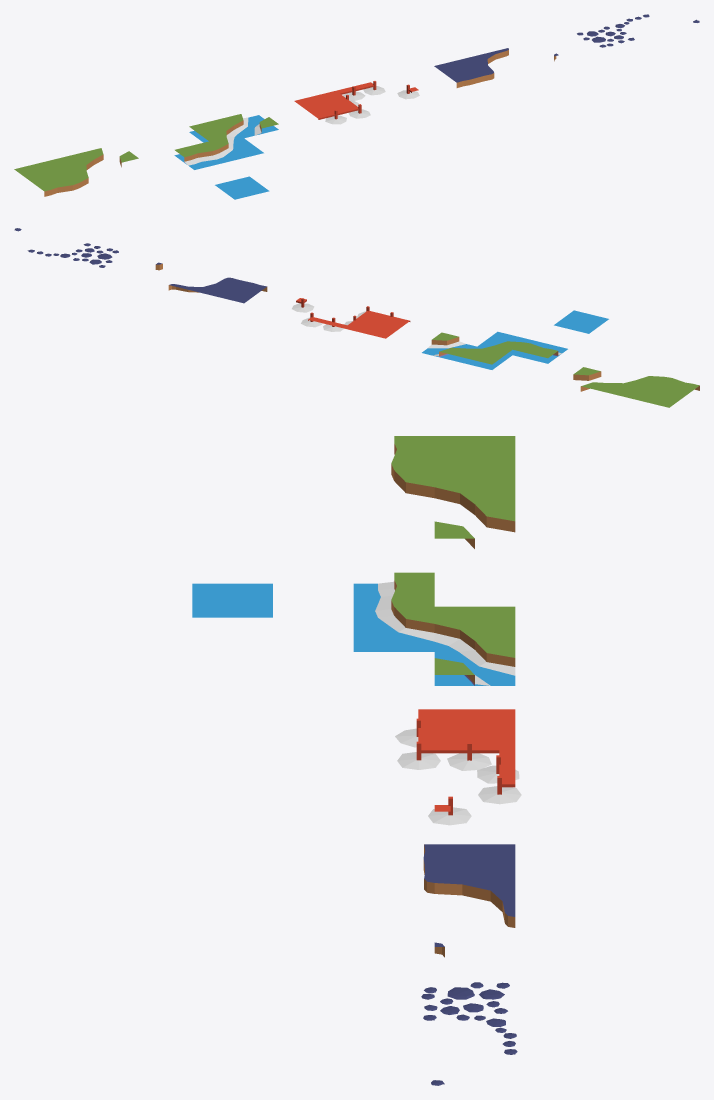
File: tileset.fbx
The picture shows the model from 3 angles, top to bottom: view 1: azimuth 30°, elevation 25°; view 2: azimuth 150°, elevation 25°; view 3: azimuth 270°, elevation 25°; orthographic projection. The views are drawn at different scales.
Visible parts, largest first — view 1: grass_water_line, grass_water_in, path_flat, water_flat, bridge_air_flat, grass_flat, grass_air_in, grass_air_line, water_flat.001, bridge_air_in, grass_water_saddle, bridge_air_saddle (+6 smaller); view 2: grass_water_in, grass_water_line, path_flat, grass_flat, water_flat, bridge_air_flat, grass_air_in, grass_water_saddle, grass_air_saddle, water_flat.001, bridge_air_in, bridge_air_saddle (+4 smaller); view 3: grass_water_in, grass_water_line, path_flat, grass_flat, bridge_air_flat, grass_air_in, water_flat, bridge_air_in, grass_water_saddle, water_flat.001, path_in, bridge_air_saddle (+5 smaller).
Boxes of the visible parts, x1,y1,x2,y2 form: grass_water_line: (174, 141, 228, 169); grass_water_in: (189, 118, 243, 142); path_flat: (434, 57, 488, 80); water_flat: (215, 176, 269, 199); bridge_air_flat: (294, 92, 348, 115); grass_flat: (14, 161, 68, 183); grass_air_in: (49, 152, 93, 175); grass_air_line: (34, 175, 79, 196); water_flat.001: (223, 138, 263, 161); bridge_air_in: (329, 84, 367, 106); grass_water_saddle: (224, 114, 278, 135); bridge_air_saddle: (363, 81, 419, 99); grass_water_in: (457, 345, 512, 369); grass_water_line: (513, 340, 567, 363); path_flat: (209, 280, 264, 303); grass_flat: (634, 384, 688, 407); water_flat: (554, 310, 608, 333); bridge_air_flat: (351, 315, 405, 338); grass_air_in: (599, 380, 653, 399); grass_water_saddle: (428, 332, 466, 356); grass_air_saddle: (573, 367, 608, 391); water_flat.001: (477, 331, 532, 354); bridge_air_in: (315, 313, 370, 331); bridge_air_saddle: (292, 298, 322, 327); grass_water_in: (434, 606, 515, 651); grass_water_line: (353, 572, 434, 617); path_flat: (434, 844, 515, 878); grass_flat: (434, 436, 515, 470); bridge_air_flat: (434, 709, 515, 743); grass_air_in: (434, 470, 515, 514); water_flat: (192, 583, 272, 617); bridge_air_in: (434, 742, 519, 783); grass_water_saddle: (434, 641, 515, 685); water_flat.001: (353, 617, 434, 651); path_in: (434, 878, 515, 922); bridge_air_saddle: (428, 776, 521, 825).
Bounding box in the file's own units: 95.14 × 1.3 × 20.39.
